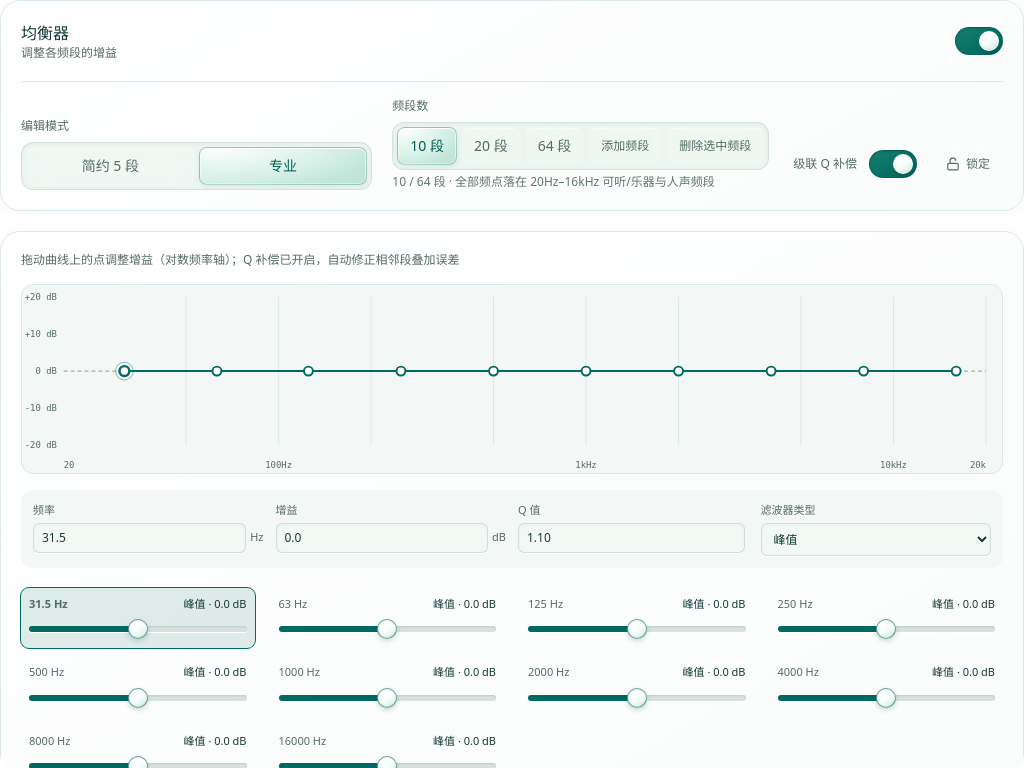
Test: HSE 均衡器编辑 › 频段列表、曲线选中态与三个数值输入保持同步
The image size is (1024, 768).
Click the button "250 Hz": point(795, 604) [778,596,813,612]
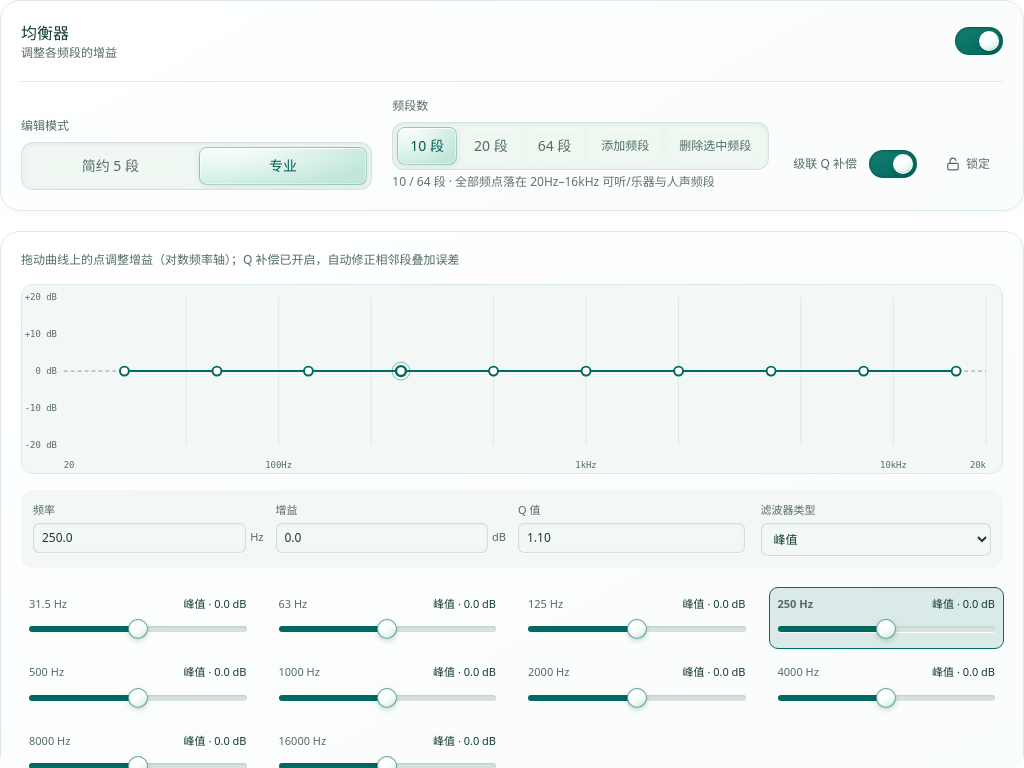
Result: the number field labelled "频率 Hz" holds "250.0" at [33,522,246,552]
Press Enter in the button "选择 1000 Hz 频段", box [578,363,594,379]
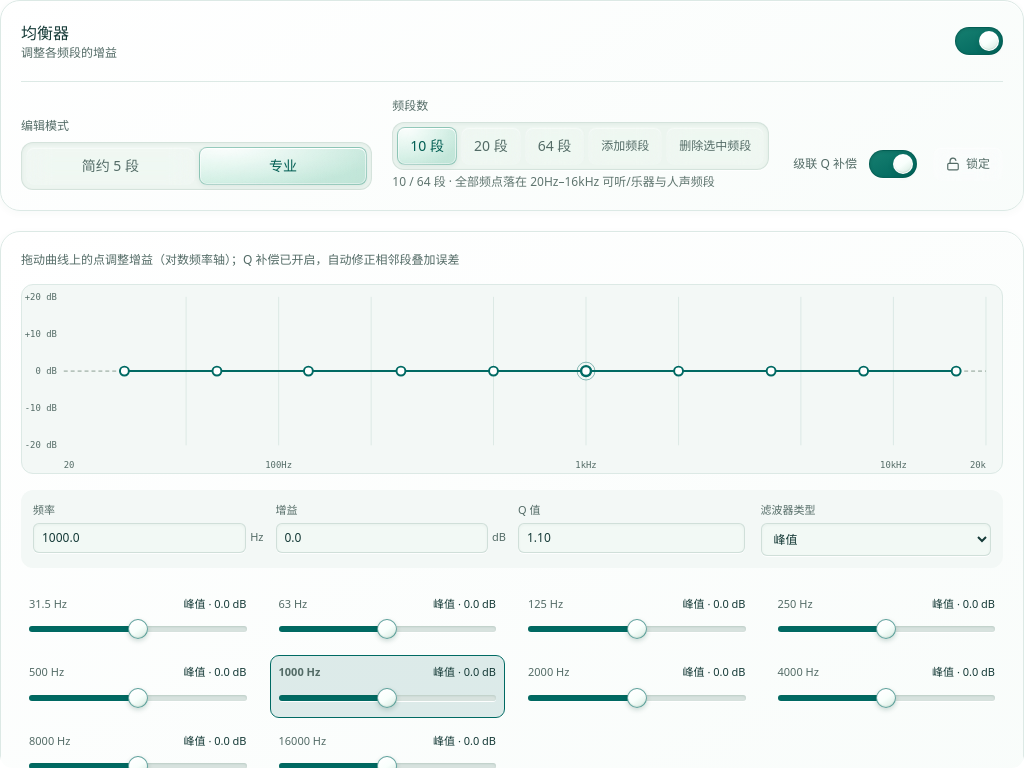
Result: the number field labelled "频率 Hz" holds "1000.0" at [33,522,246,552]
